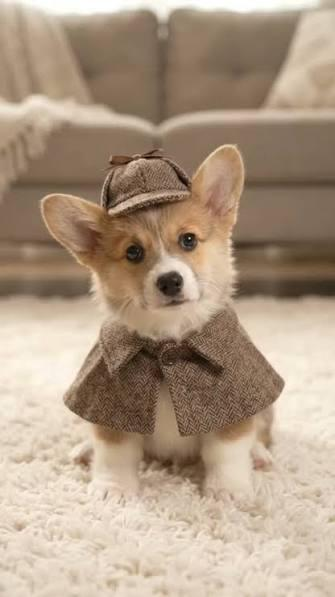puppy-dog: (40, 144, 286, 508)
